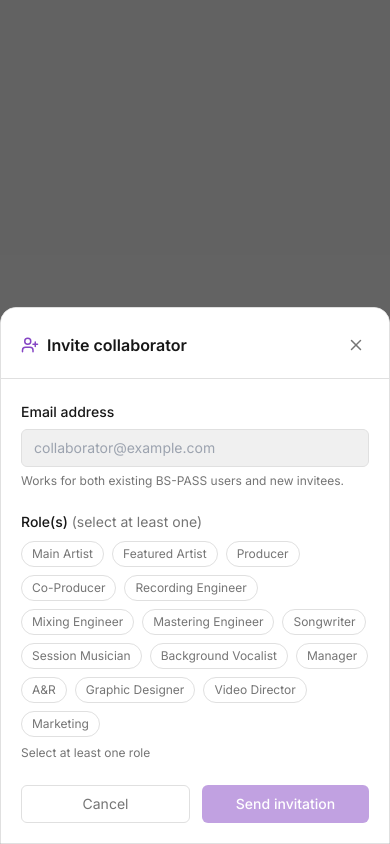
InviteModal › toggles a role on click
This screenshot has width=390, height=844.
What coordinates should you click on to do the following:
click the button "Producer"
I would click on:
 (263, 554)
Its box is x1=226 y1=541 x2=300 y2=567.
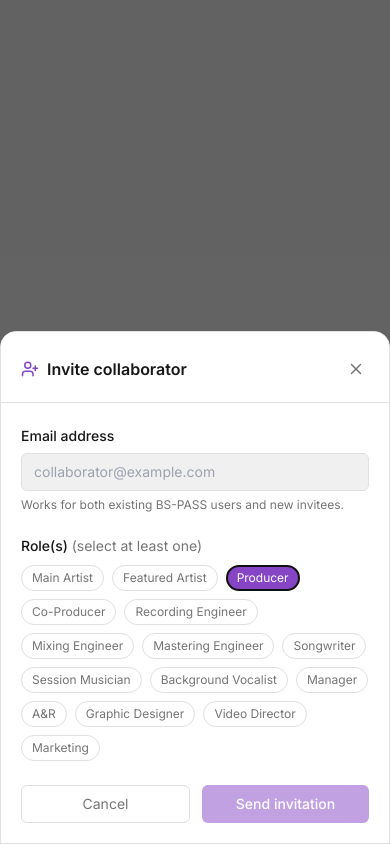
Expected: the text "Select at least one role" is gone
